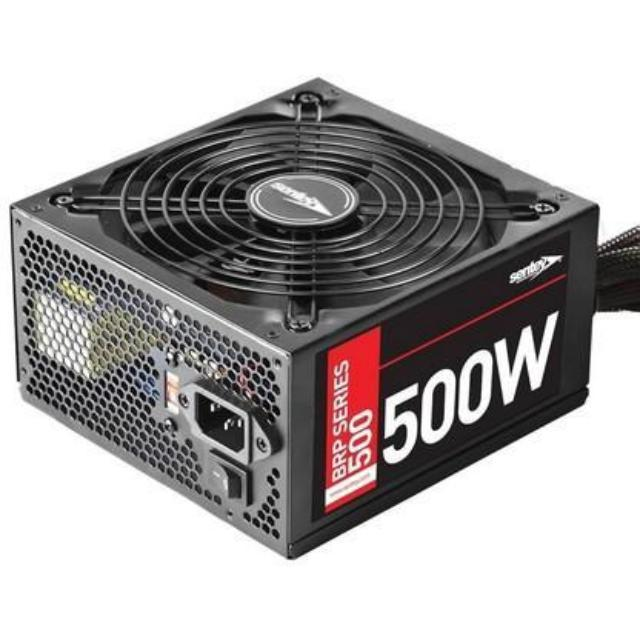PSU: (0, 77, 598, 568)
